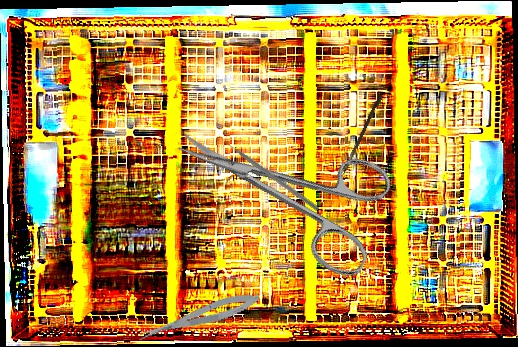Chopper: (221, 133, 324, 212)
Hook Surgical: (332, 93, 384, 197)
Iris Scissors: (158, 85, 405, 283)
Micro Scissor: (134, 287, 263, 346)
